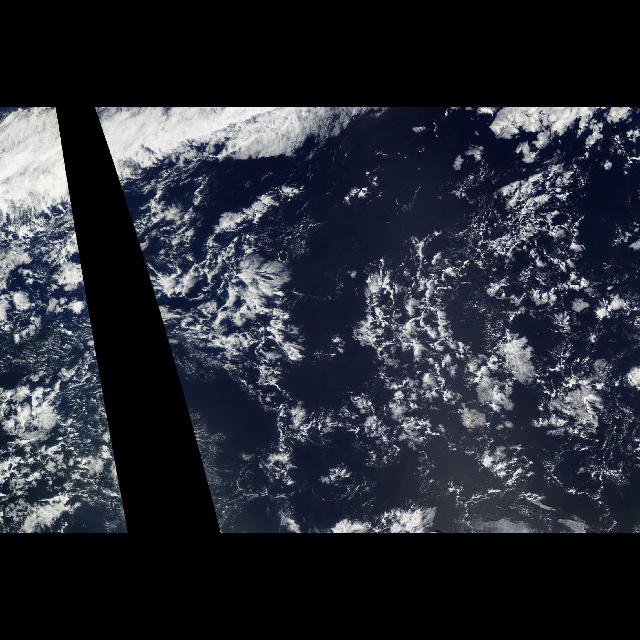Gravel: (135, 164, 639, 493)
Sugar: (376, 266, 634, 524), (127, 195, 313, 368)
